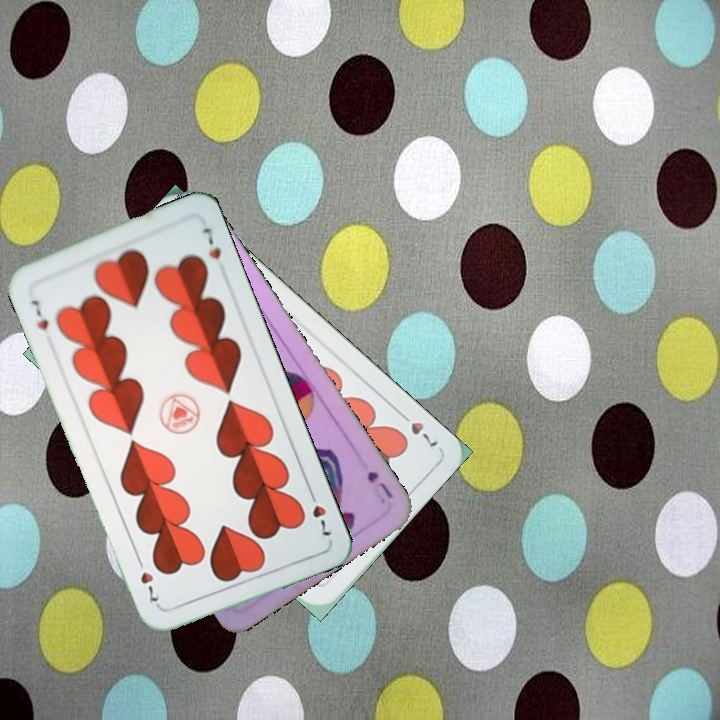H7: (393, 406, 441, 450), (305, 485, 335, 539), (26, 296, 51, 333)
SU: (363, 467, 395, 507)
